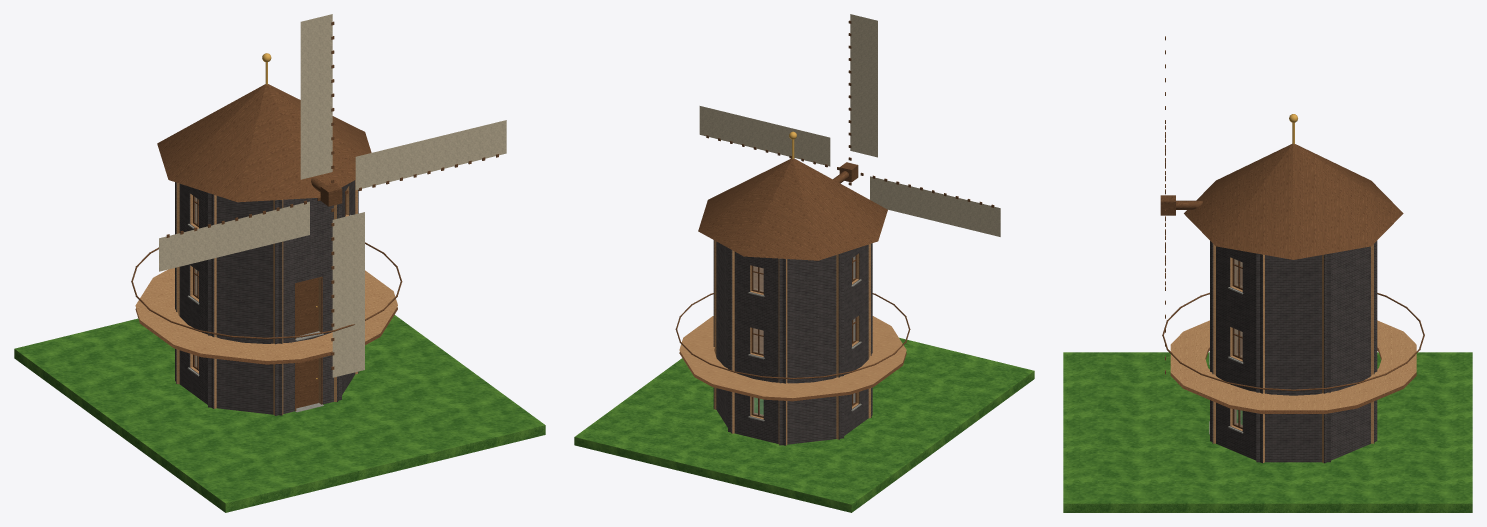
File: b_windmill_dutch.gltf
3 views of the same model, side by side, from view 1: azimuth 30°, elevation 25°; view 2: azimuth 150°, elevation 25°; view 3: azimuth 270°, elevation 25° (orthographic). The views are drawn at different scales.
Visible parts, largest first — view 1: S_windmill_dutch, D_windmill_dutch_F2_5_0_Door0, D_windmill_dutch_F1_5_0_Door0; view 2: S_windmill_dutch; view 3: S_windmill_dutch.
Part boxes in pixels (box(x1,y1,x2,y2)): S_windmill_dutch: box(14, 14, 545, 512); D_windmill_dutch_F2_5_0_Door0: box(296, 279, 318, 335); D_windmill_dutch_F1_5_0_Door0: box(296, 358, 318, 408); S_windmill_dutch: box(574, 14, 1034, 512); S_windmill_dutch: box(1063, 36, 1472, 512).
Size of the model in its own units: 15.2 by 17.6 by 16.
Materials: 15 (9 with a texture image).
